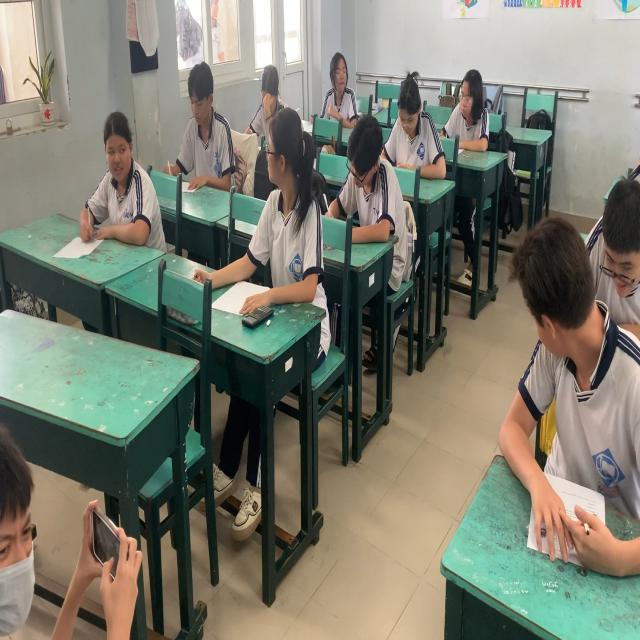cheating: (498, 220, 615, 552), (253, 100, 318, 303), (88, 111, 163, 252), (320, 27, 376, 130)
not_cheating: (179, 61, 240, 200), (339, 117, 397, 234), (386, 75, 446, 186), (442, 61, 498, 165), (256, 54, 286, 138)
